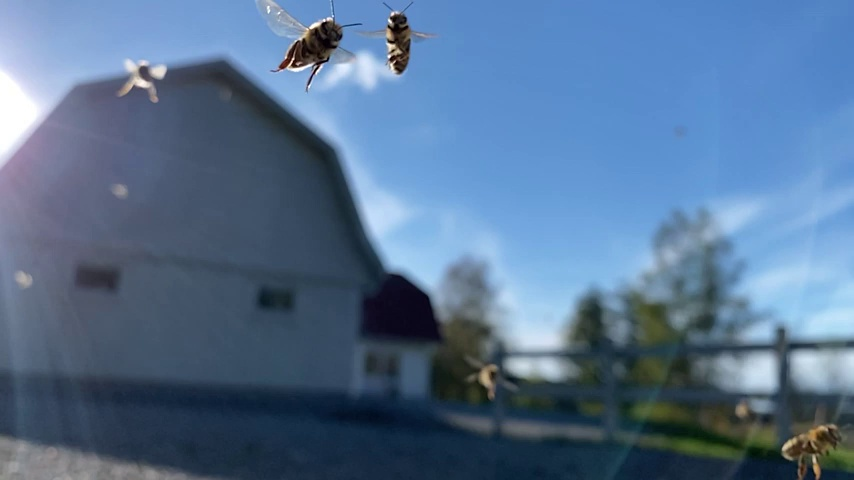insect: (254, 1, 358, 79), (776, 409, 846, 479), (364, 1, 431, 73), (118, 54, 167, 99)
